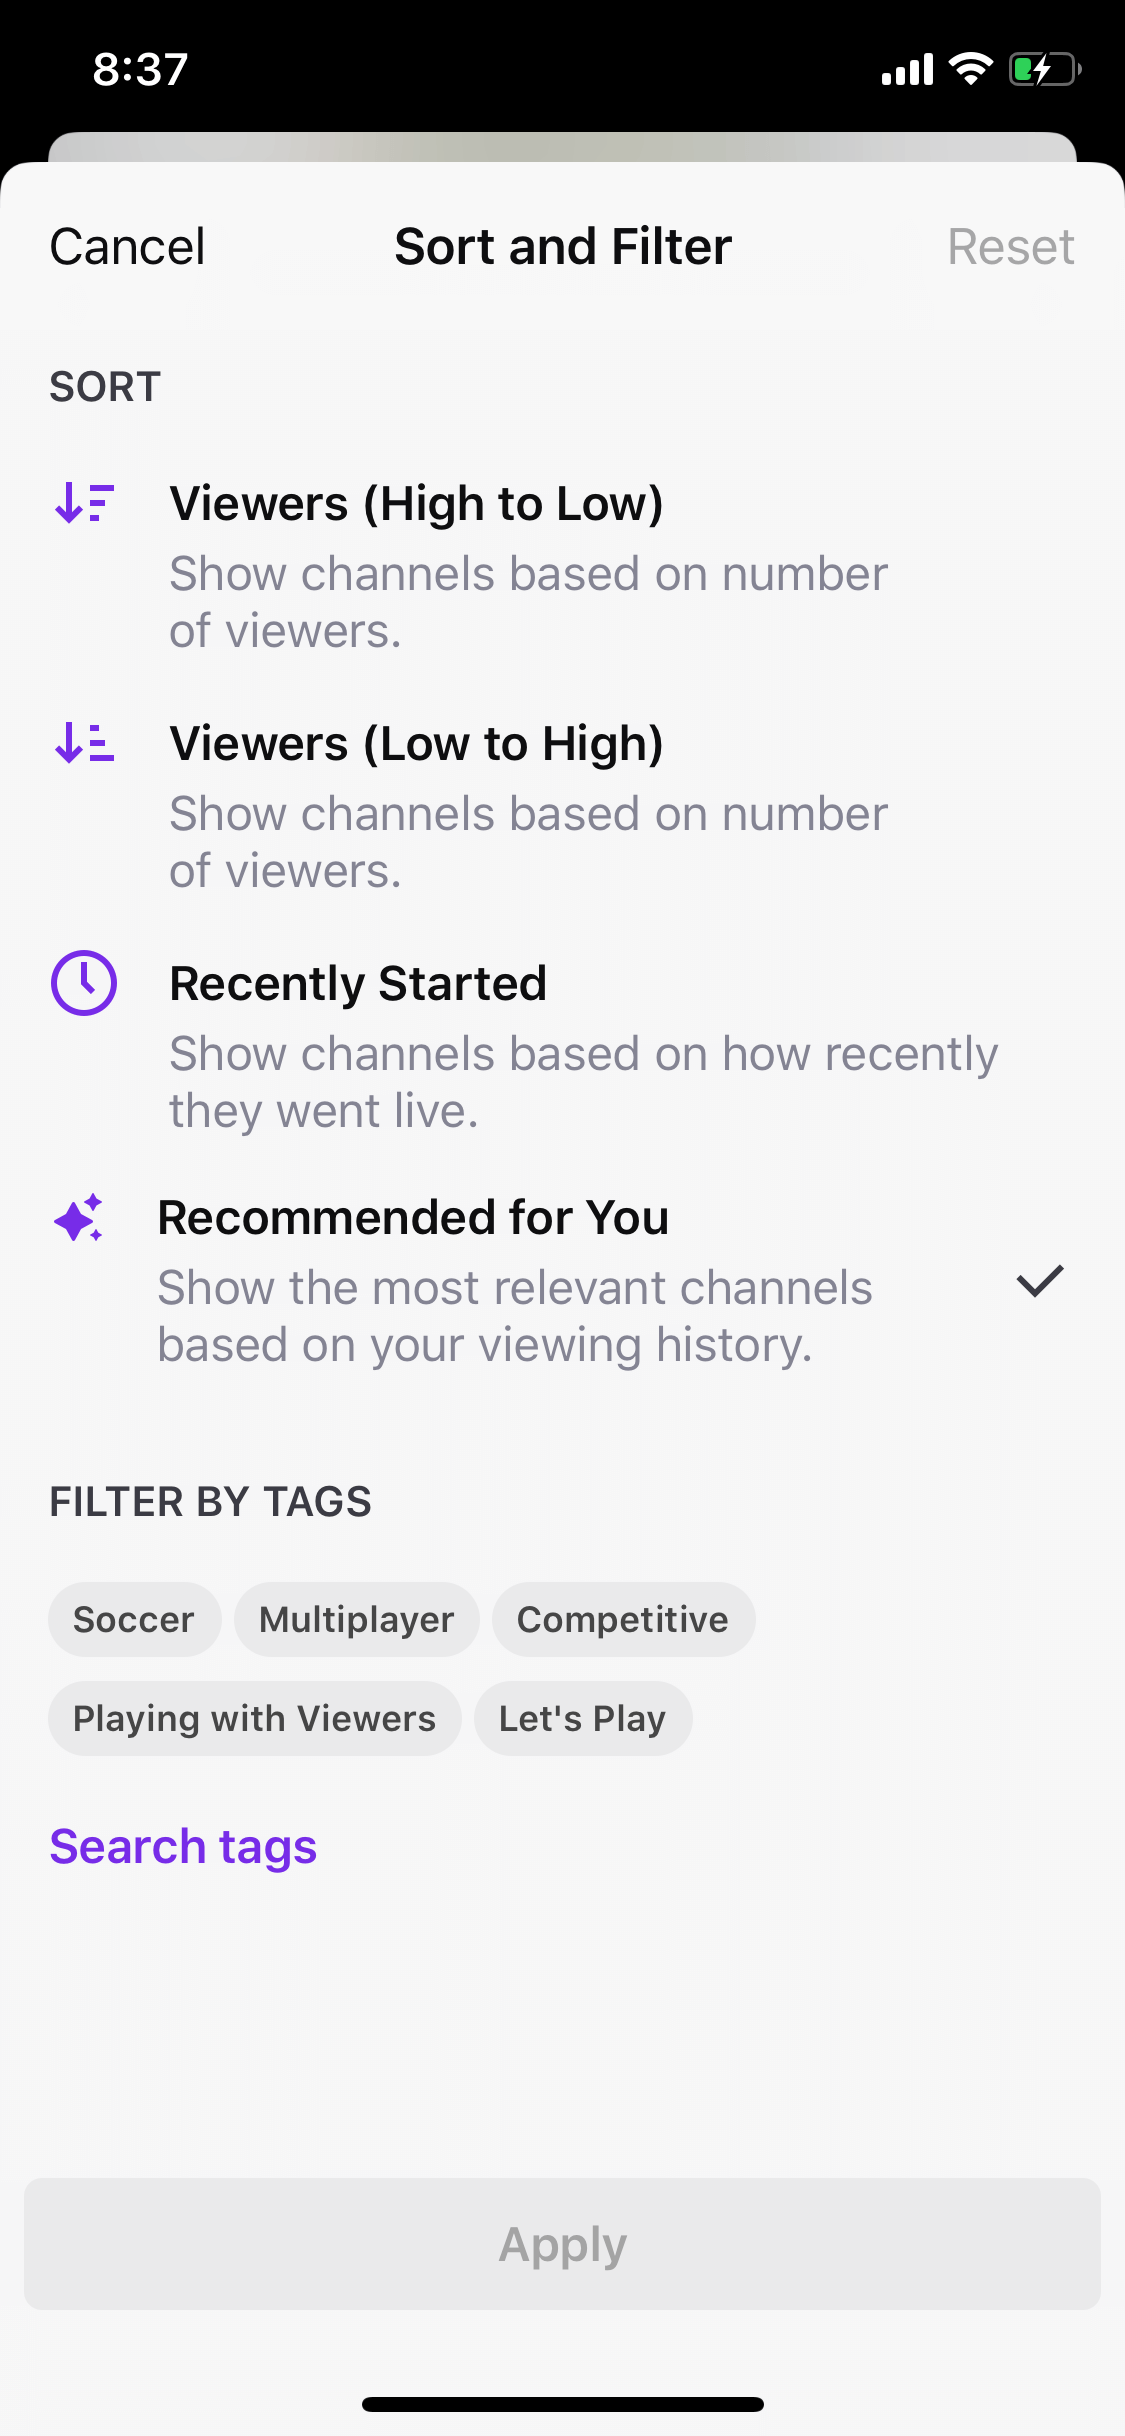Buttons: (14, 2158, 1106, 2333), (23, 188, 232, 287), (928, 191, 1106, 291)
